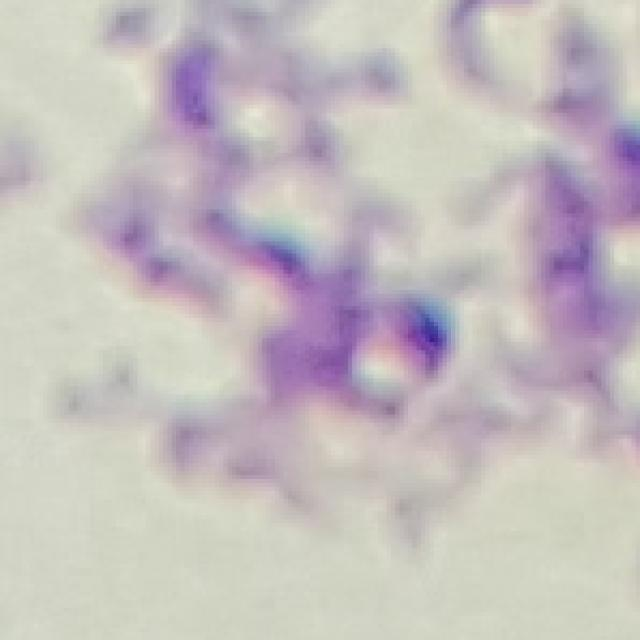non-sperm: (156, 49, 454, 420)
